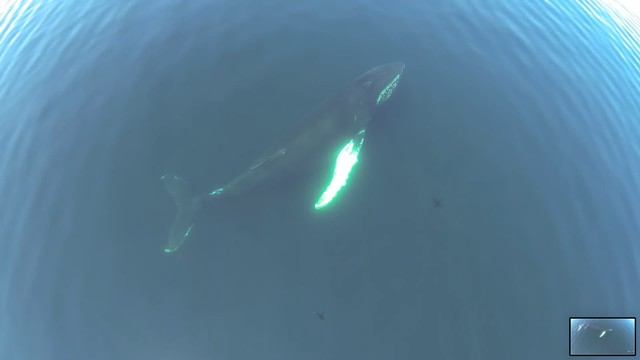whale: (142, 50, 414, 263)
